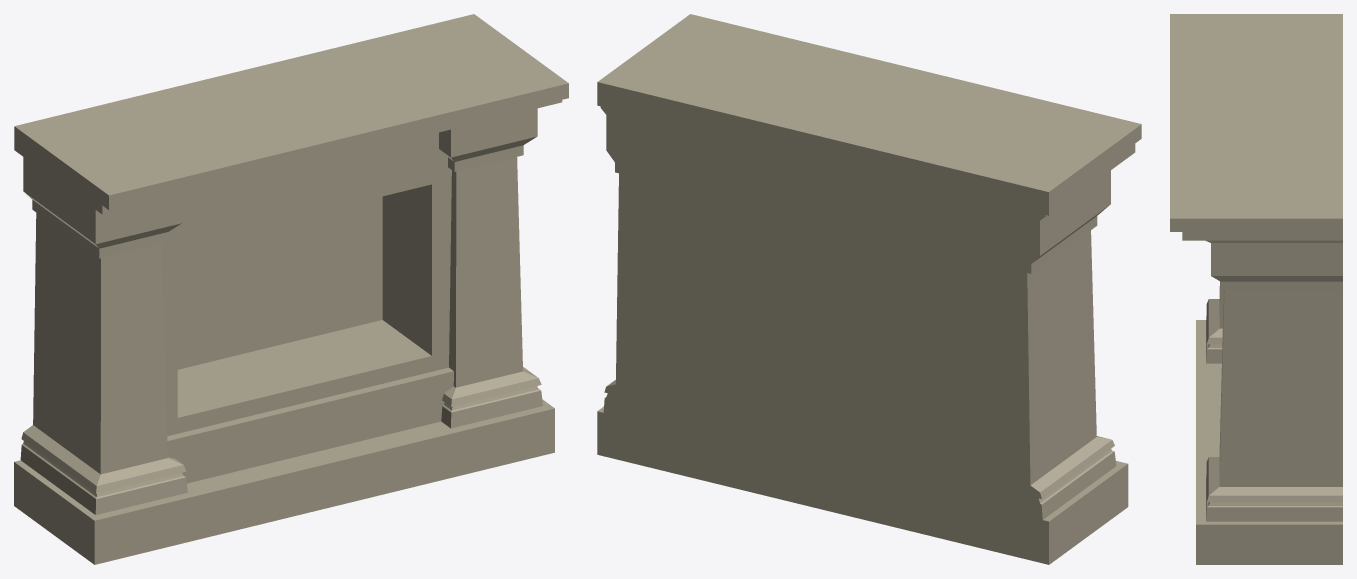
File: home_fireplace.fbx
3 renders of one model, left to right at view 1: azimuth 30°, elevation 25°; view 2: azimuth 150°, elevation 25°; view 3: azimuth 270°, elevation 25°, orthographic. The views are drawn at different scales.
Visible parts, largest first — view 1: home_fireplace_LOD0; view 2: home_fireplace_LOD0; view 3: home_fireplace_LOD0.
Part boxes in pixels (x1,y1,x2,y2): home_fireplace_LOD0: [14, 14, 568, 564]; home_fireplace_LOD0: [597, 14, 1141, 564]; home_fireplace_LOD0: [1170, 14, 1342, 564].
Size of what is drawn, in the model's own units: 1.65 by 1.3 by 0.5877.
